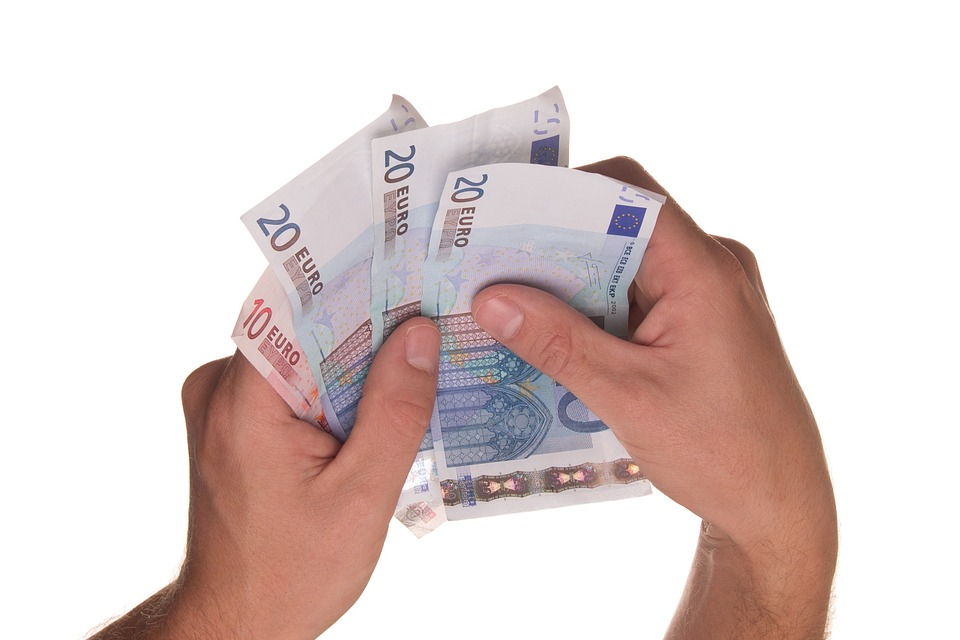billete: (229, 79, 659, 542)
